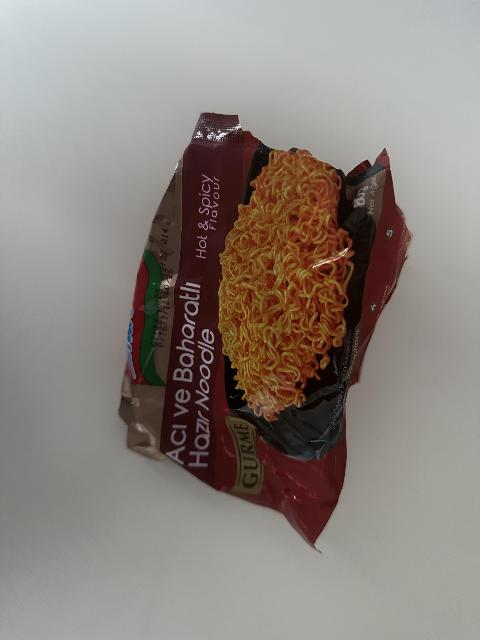Plastik: (116, 114, 390, 544)
